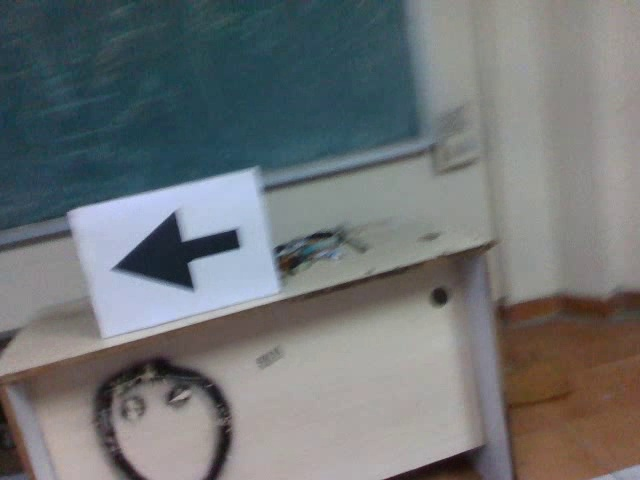Left: (105, 208, 244, 294)
